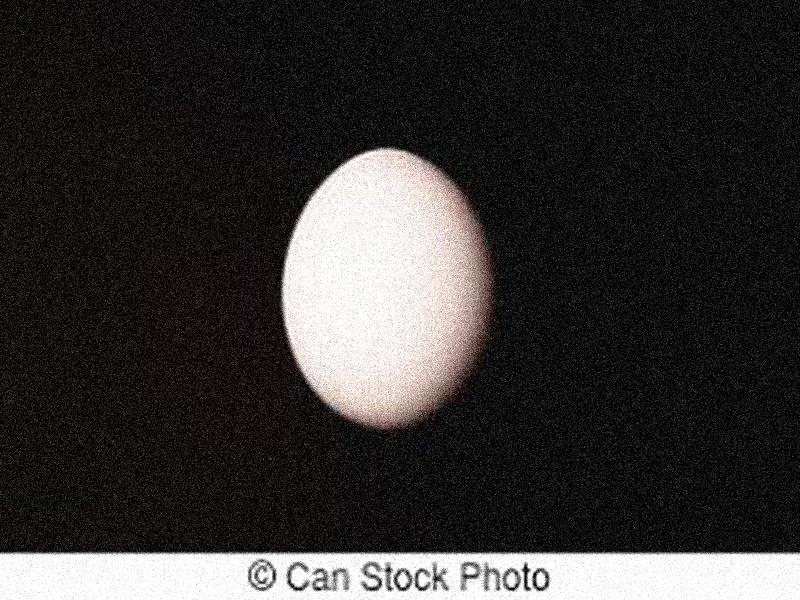Eggs: (282, 148, 491, 434)
